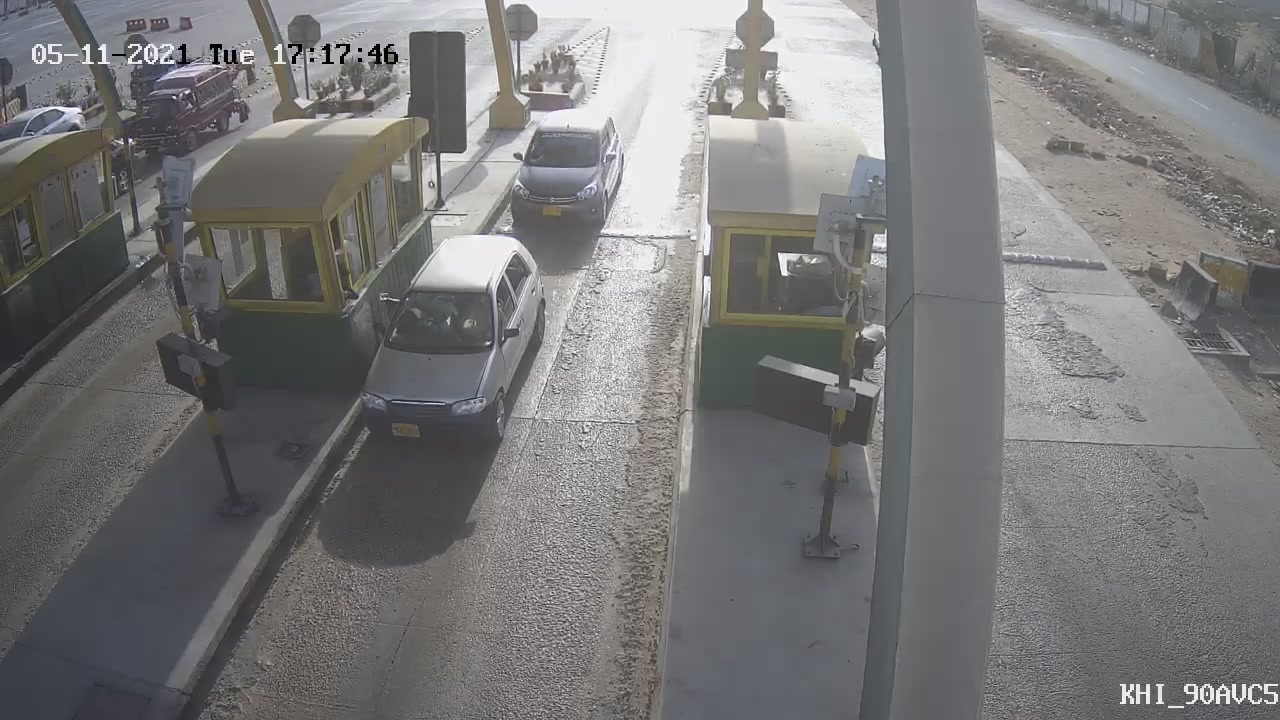F1: (340, 218, 566, 475), (492, 95, 643, 246)
